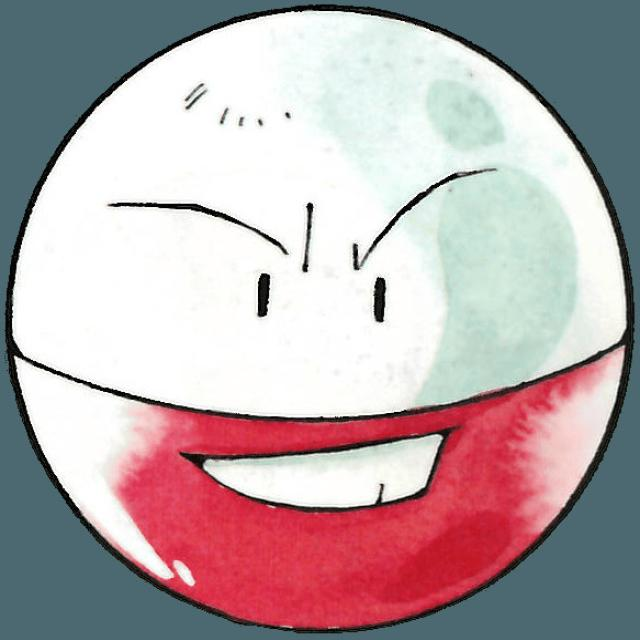Electrode: (0, 8, 635, 630)
